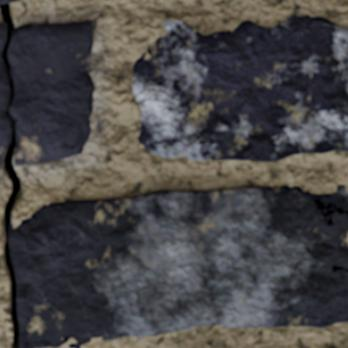brick: (11, 185, 347, 347), (133, 15, 347, 162), (0, 0, 16, 4)
broken_brick: (10, 21, 95, 167), (0, 22, 11, 162)
crack: (0, 2, 27, 347), (312, 197, 347, 226), (331, 265, 347, 273)
